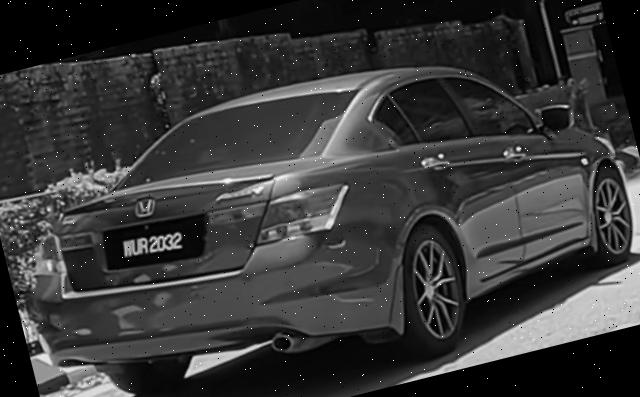License_Plate: (97, 206, 211, 280)
car: (1, 9, 640, 397)
